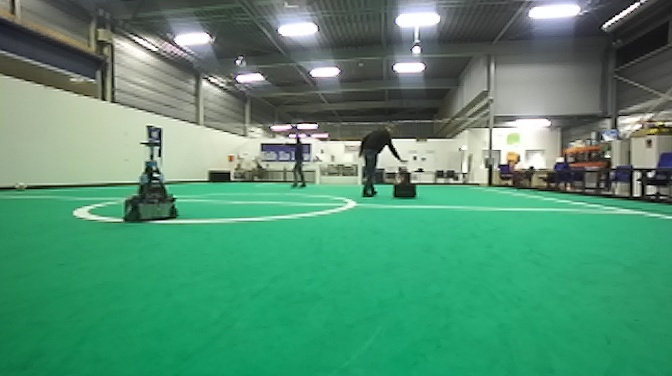ball: (11, 178, 32, 194)
goal: (316, 161, 362, 188)
goalpost: (315, 160, 323, 188), (357, 159, 361, 189)
human: (356, 121, 410, 202), (287, 130, 308, 190)
robot: (118, 138, 181, 226), (391, 159, 419, 202)
